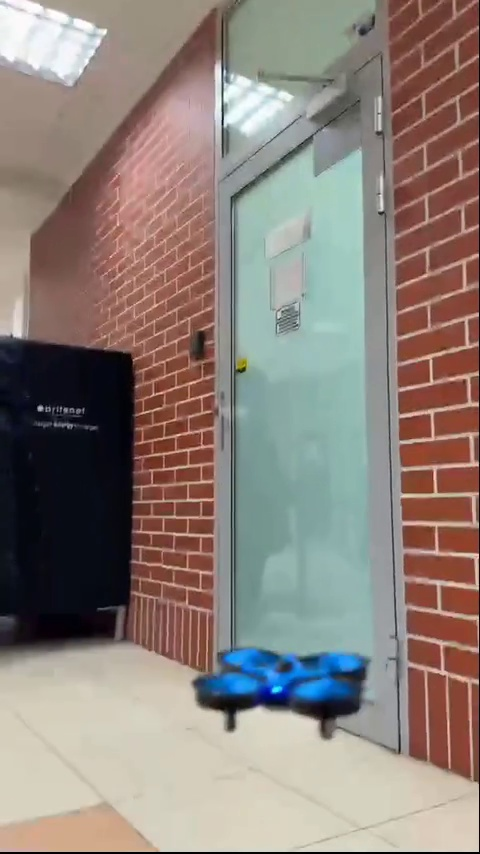drone: (195, 649, 372, 739)
